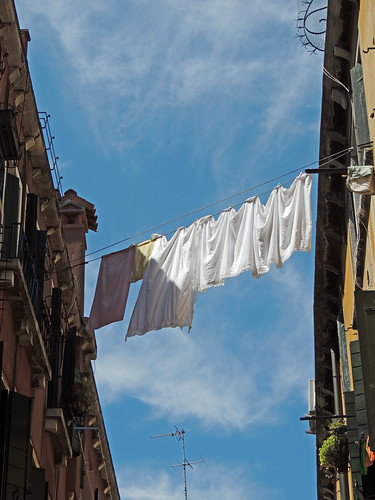building: (1, 1, 127, 496), (310, 1, 375, 491)
sky: (52, 1, 303, 493)
